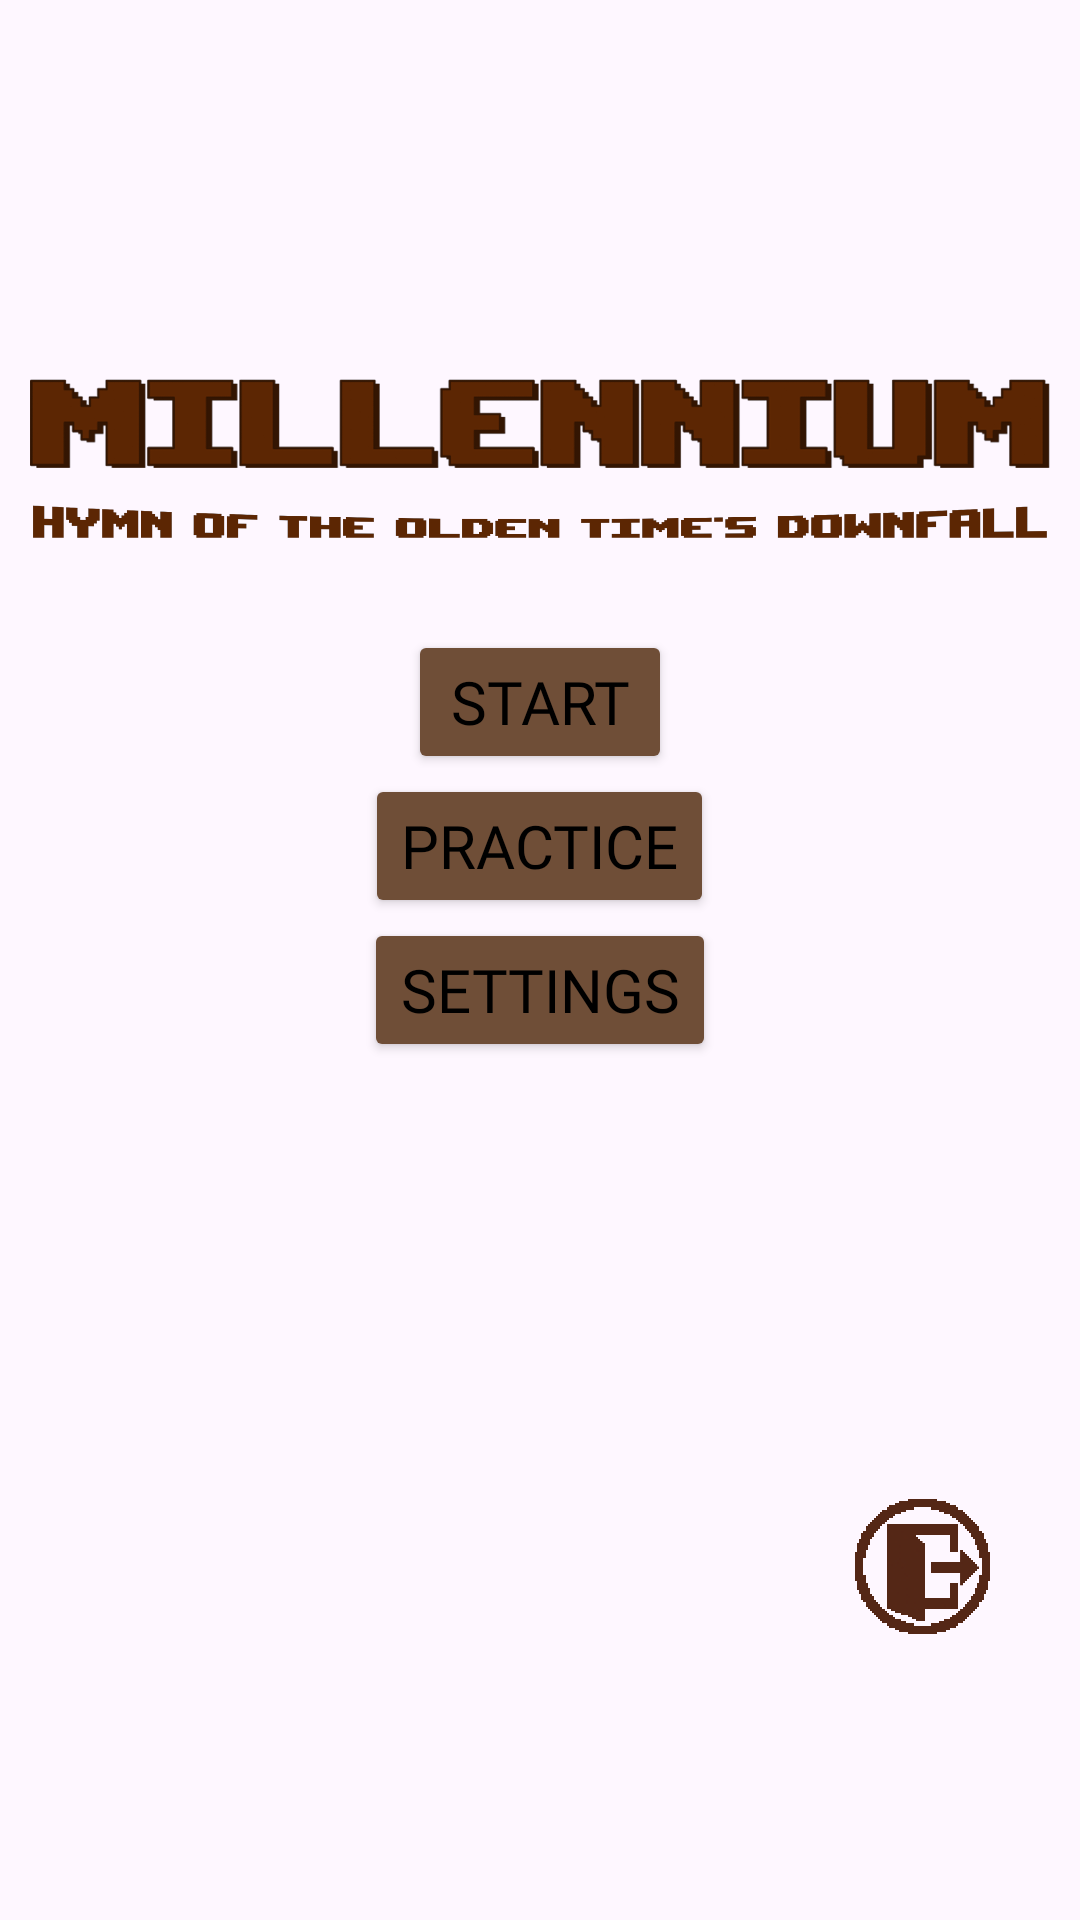

Screen size 1080px x 1920px. Icon name, then its box in pixels as [left=x1, top=y1, right=x2, bottom=y2]:
brownexit: [left=855, top=1499, right=990, bottom=1634]
